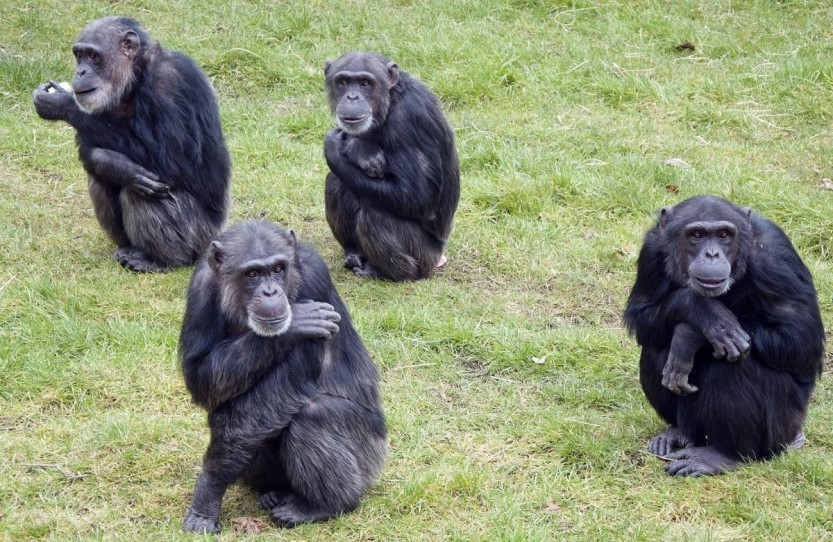Chimpanzee: (183, 226, 381, 526), (620, 194, 827, 462), (29, 5, 233, 266), (314, 48, 462, 275)
